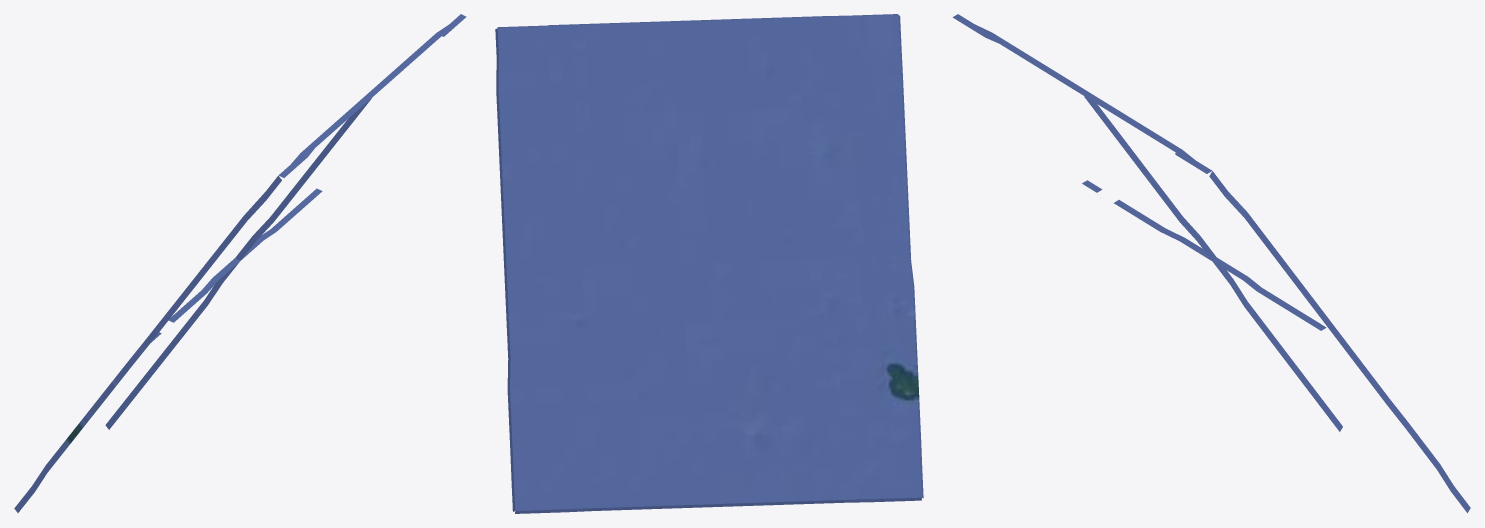
3 views of the same model, side by side, from view 1: azimuth 30°, elevation 25°; view 2: azimuth 150°, elevation 25°; view 3: azimuth 270°, elevation 25° (orthographic). The views are drawn at different scales.
Size of the model in its own units: 158260 by 131264 by 148342.
Materials: 1 (1 with a texture image).
